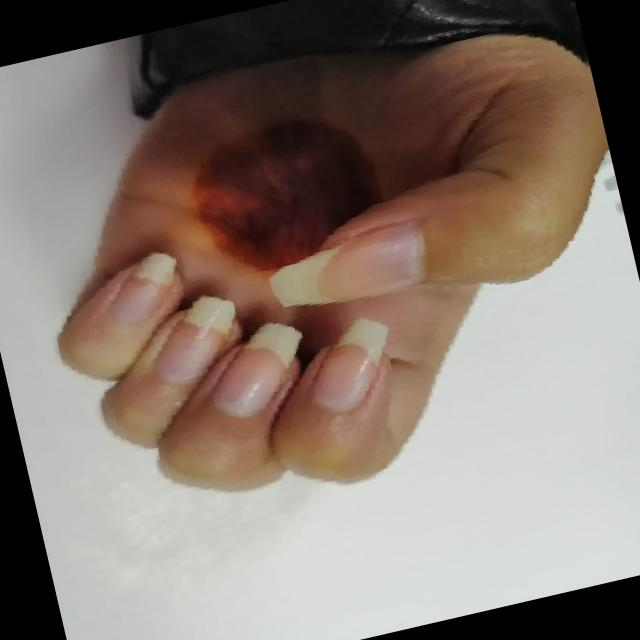Nail: (268, 221, 424, 306), (212, 321, 300, 416), (311, 317, 386, 410), (157, 295, 234, 382), (112, 251, 176, 321)
